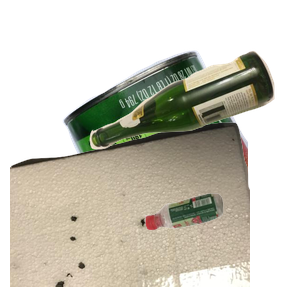glass: (87, 48, 300, 190)
metal: (60, 48, 300, 228)
plastic: (142, 191, 300, 300)
trash: (10, 120, 250, 300)
